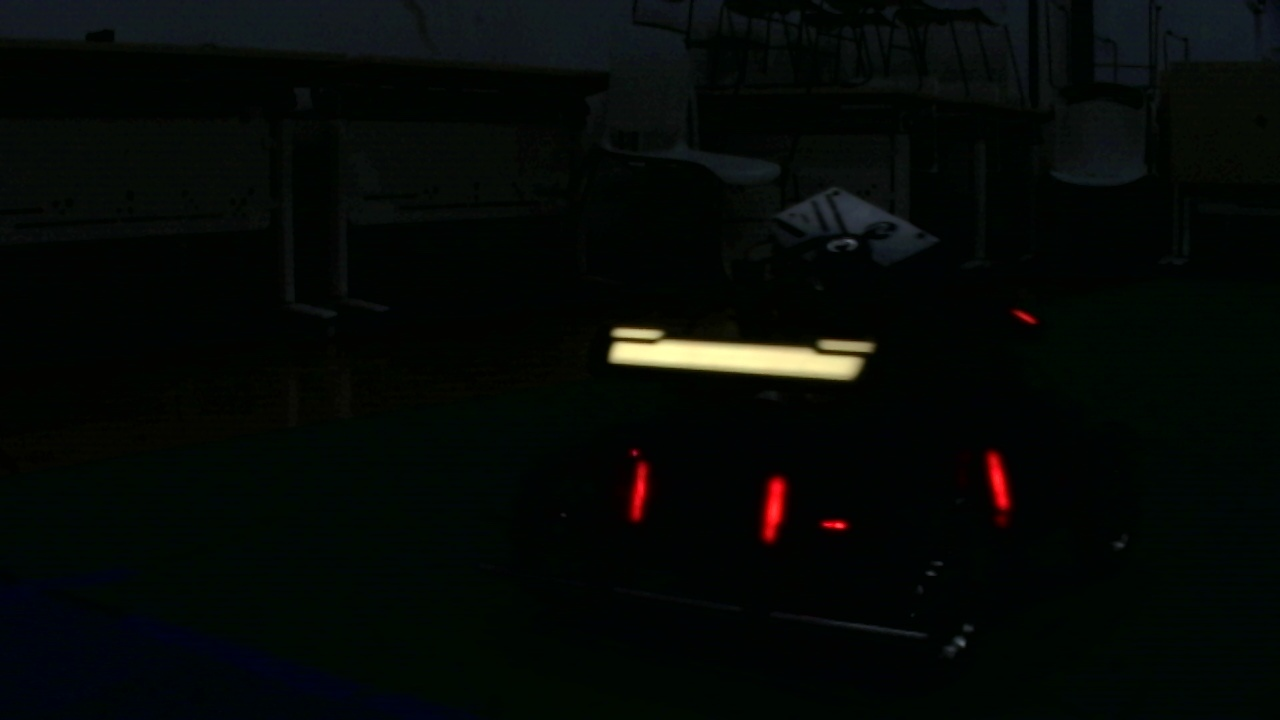lamp: (984, 444, 1012, 514), (759, 470, 785, 543), (626, 455, 651, 521)
notpair1: (760, 451, 1013, 540)
pair1: (628, 466, 783, 537)
